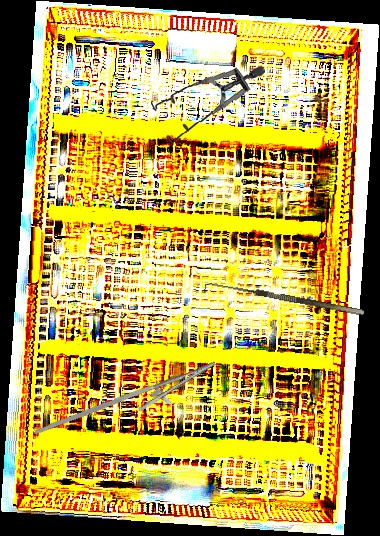Hook Surgical: (203, 279, 365, 324)
Needle Holder: (33, 339, 224, 469)
Speculum: (147, 56, 266, 154)
